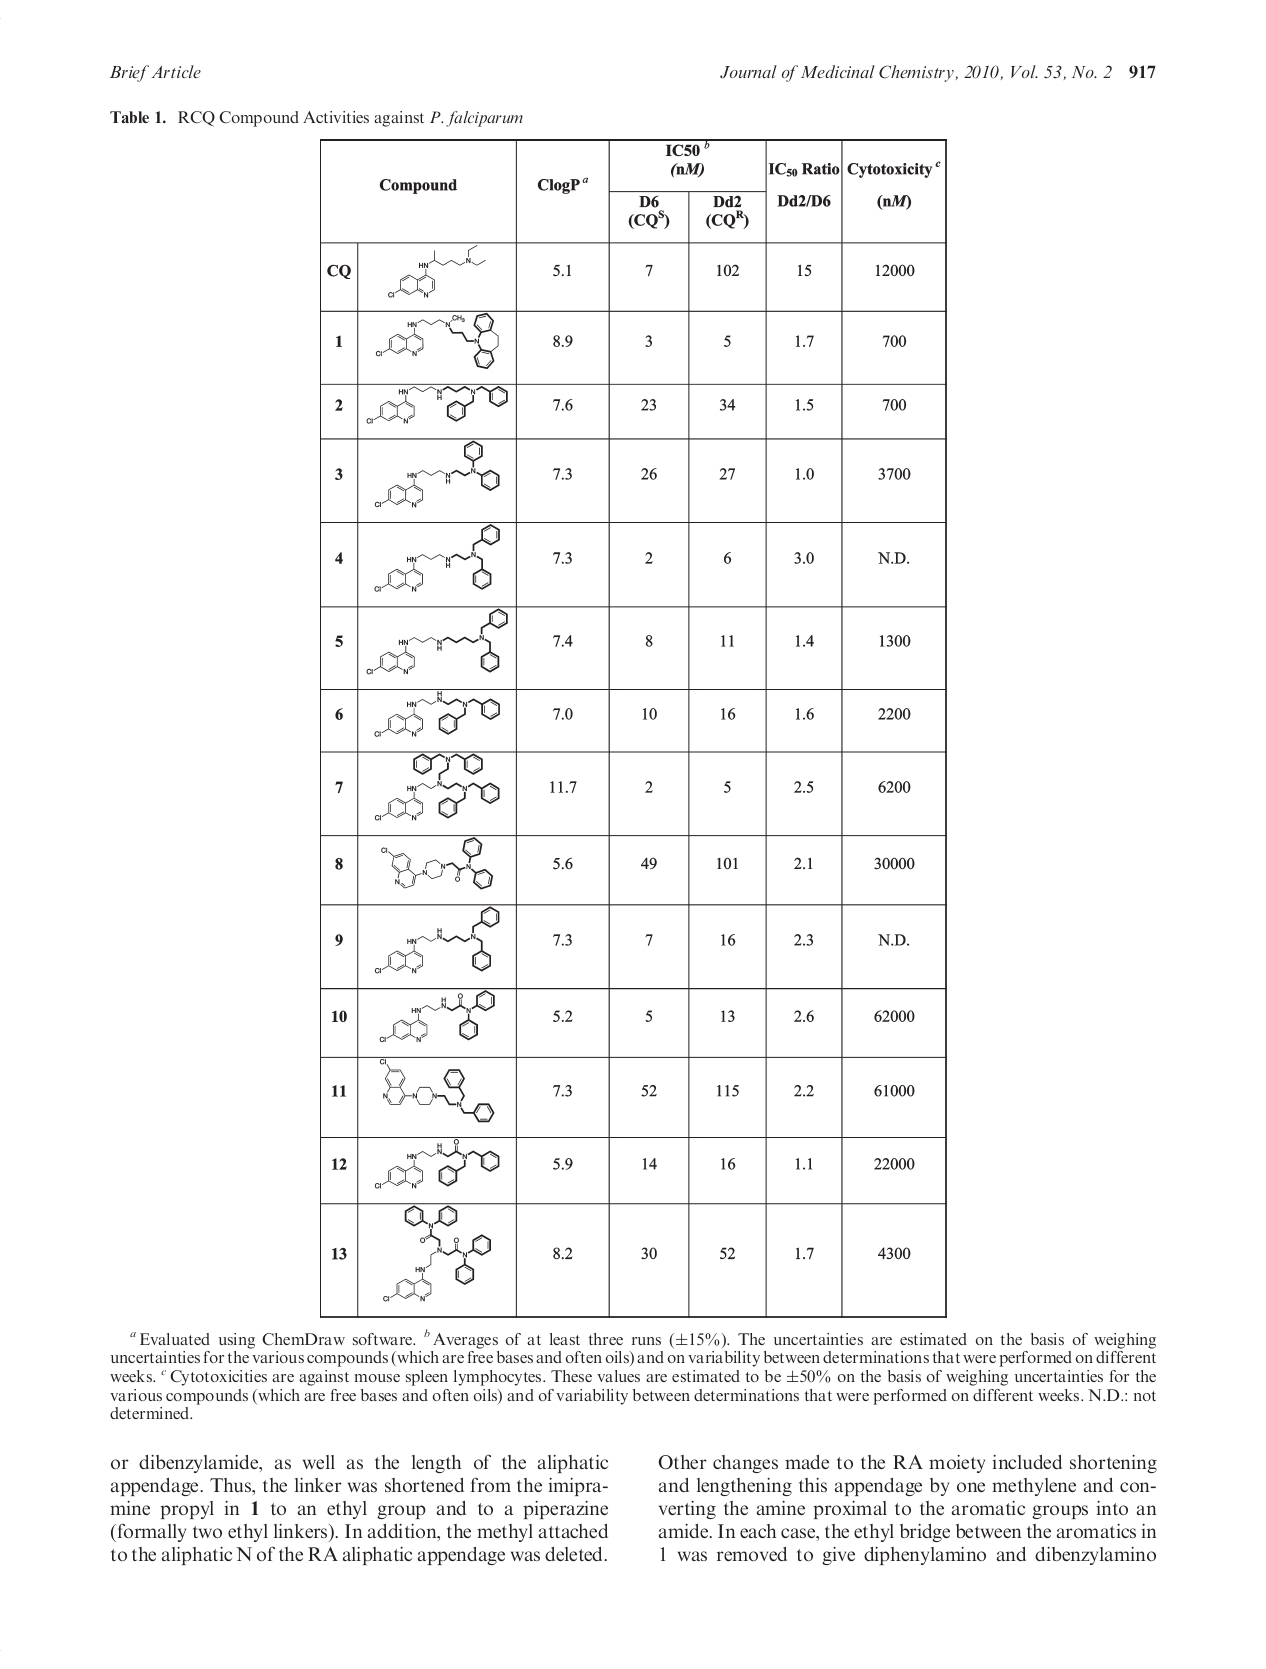exist_molecular: (379, 1205, 493, 1305), (364, 606, 508, 680), (372, 523, 501, 594), (372, 906, 501, 976), (372, 753, 501, 822), (372, 442, 501, 509), (376, 1059, 496, 1124), (375, 313, 501, 370), (374, 1137, 501, 1192), (378, 989, 497, 1044), (380, 836, 495, 892), (364, 386, 511, 428), (372, 692, 500, 739), (386, 245, 488, 299)
